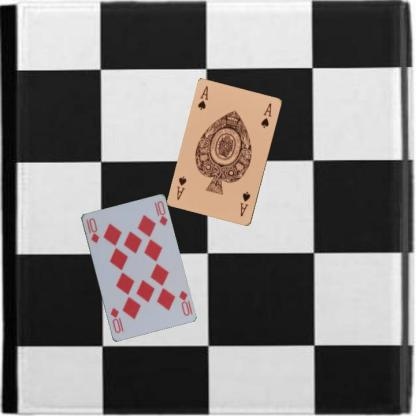10d: (83, 216, 101, 245), (176, 288, 194, 316)
As: (238, 189, 252, 218), (195, 84, 209, 111)
